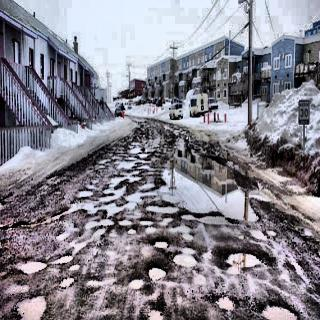pothole: (256, 292, 298, 320), (180, 211, 238, 228), (13, 297, 53, 320), (225, 251, 266, 272), (21, 258, 48, 276), (175, 249, 198, 270), (86, 216, 116, 230), (119, 216, 137, 238), (52, 249, 75, 266), (146, 203, 178, 215), (153, 236, 169, 252), (62, 277, 78, 290)
